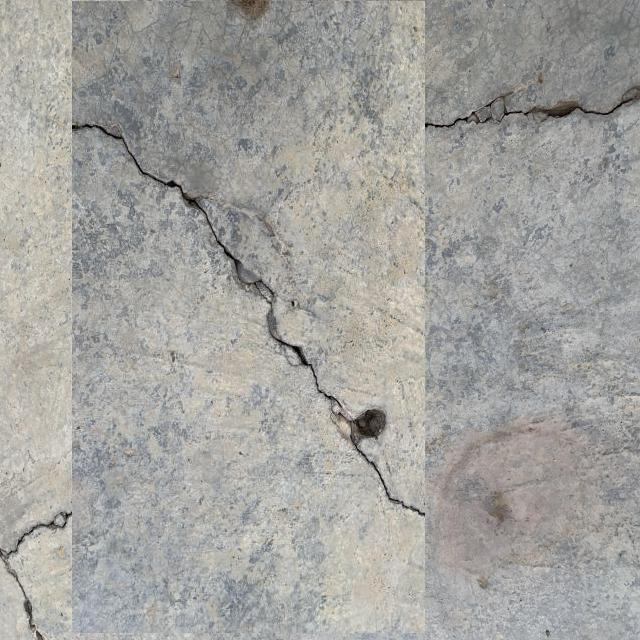diagonal crack: (72, 107, 427, 530)
horizontal crack: (426, 82, 640, 150)
multi-branched crack: (0, 496, 76, 640)
